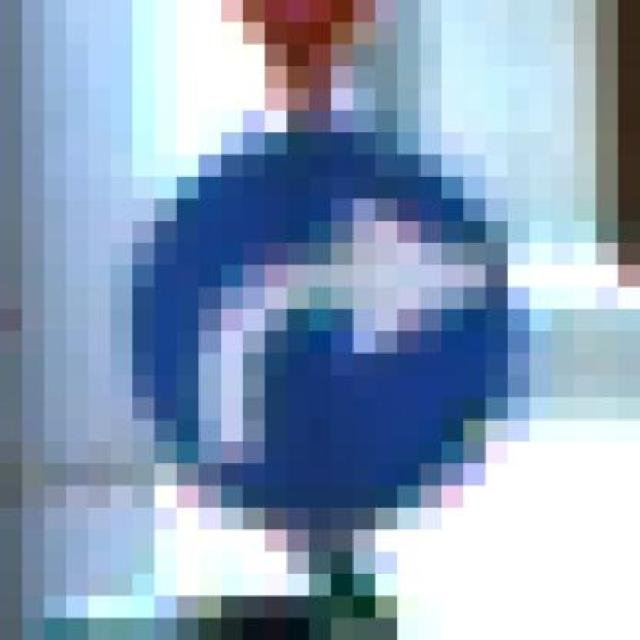Turn right ahead: (132, 111, 530, 574)
